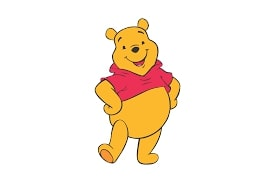Winnie: (97, 15, 165, 83)
